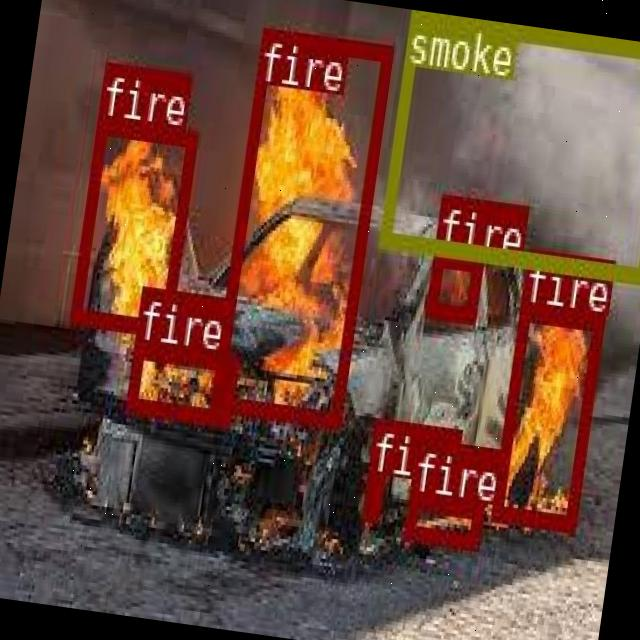fire: (210, 28, 391, 424), (68, 115, 198, 333), (489, 304, 604, 528), (124, 338, 238, 424), (424, 247, 481, 321), (403, 493, 482, 546), (362, 470, 382, 518)
smoke: (378, 9, 640, 278)
